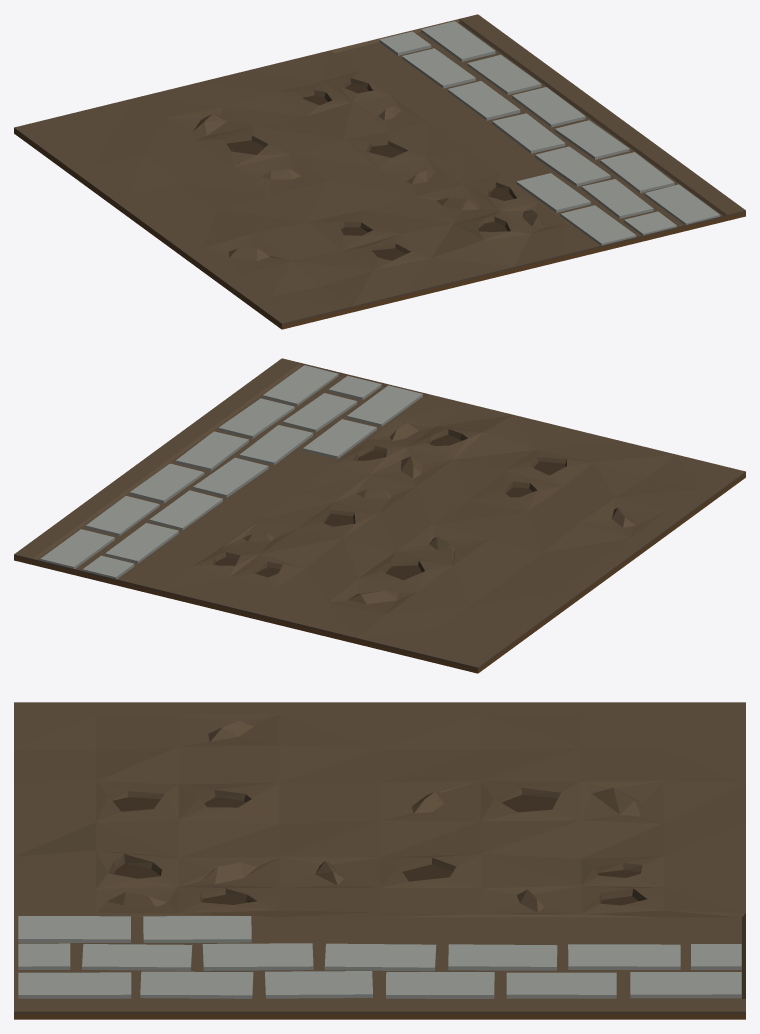
The model's file is mud-and-rut-tile-858785.glb.
3 views of the same model, one above another, from view 1: azimuth 30°, elevation 25°; view 2: azimuth 150°, elevation 25°; view 3: azimuth 270°, elevation 25° (orthographic). The views are drawn at different scales.
Visible parts, largest first — view 1: ground; view 2: ground; view 3: ground.
Part boxes in pixels (box(x1,y1,x2,y2)): ground: box(14, 14, 745, 329); ground: box(14, 358, 745, 673); ground: box(14, 702, 745, 1019).
Size of the model in its own units: 4 by 0.106 by 4.
